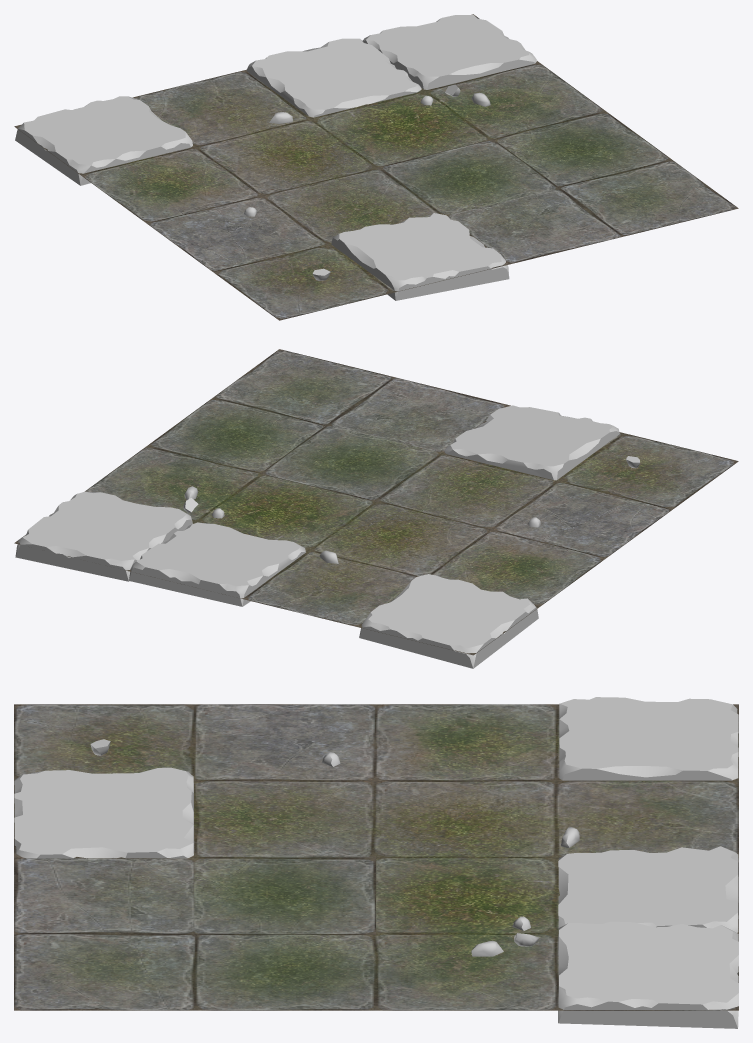
The model's file is Floor_Lvl3_15.fbx.
3 views of the same model, one above another, from view 1: azimuth 30°, elevation 25°; view 2: azimuth 150°, elevation 25°; view 3: azimuth 270°, elevation 25° (orthographic). The views are drawn at different scales.
Parts seen in each view (by area): view 1: StoneFloor_Details.003; view 2: StoneFloor_Details.003; view 3: StoneFloor_Details.003.
Part boxes in pixels (x1,y1,x2,y2): StoneFloor_Details.003: (14, 14, 738, 320); StoneFloor_Details.003: (14, 349, 738, 668); StoneFloor_Details.003: (14, 697, 738, 1028).
Size of the model in its own units: 382 by 20.6 by 382.
